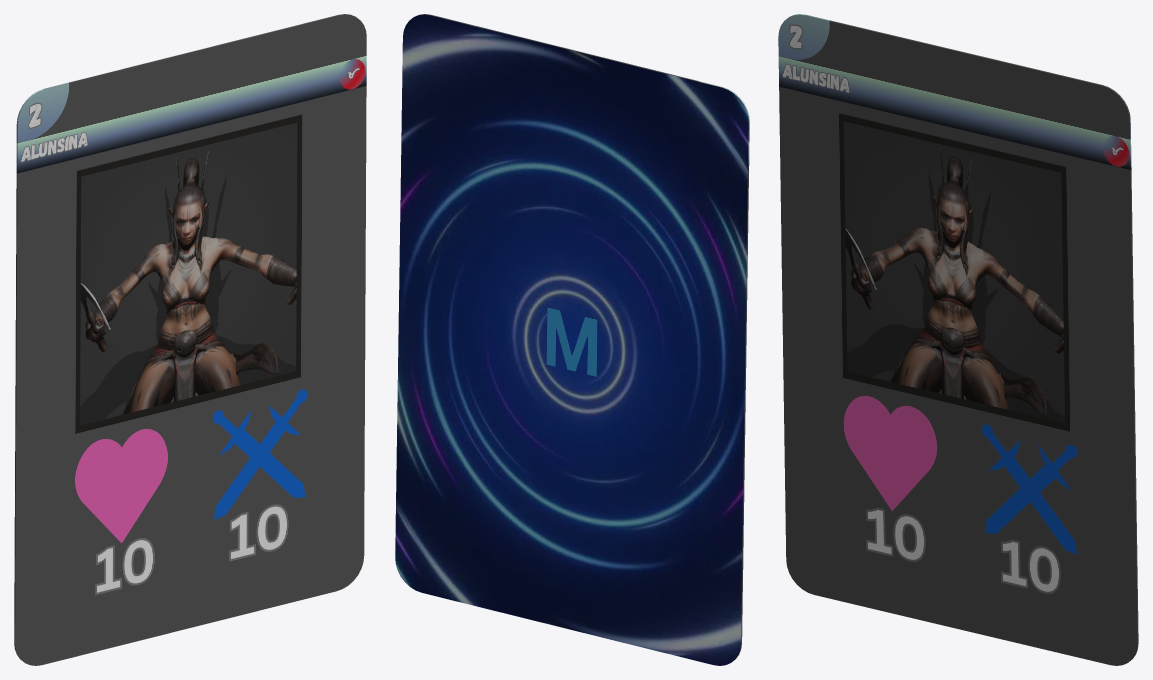
File: Alunsina.glb
The picture shows the model from 3 angles, left to right: view 1: azimuth 30°, elevation 25°; view 2: azimuth 150°, elevation 25°; view 3: azimuth 330°, elevation 25°; orthographic projection.
Parts seen in each view (by area): view 1: Card; view 2: Card; view 3: Card.
Boxes of the visible parts, left/top/right/bottom form: Card: left=14, top=14, right=366, bottom=665; Card: left=395, top=14, right=749, bottom=665; Card: left=778, top=14, right=1138, bottom=665.
Bounding box in the file's own units: 0.0564 × 0.0891 × 0.00197.
2 materials, 2 textured.
